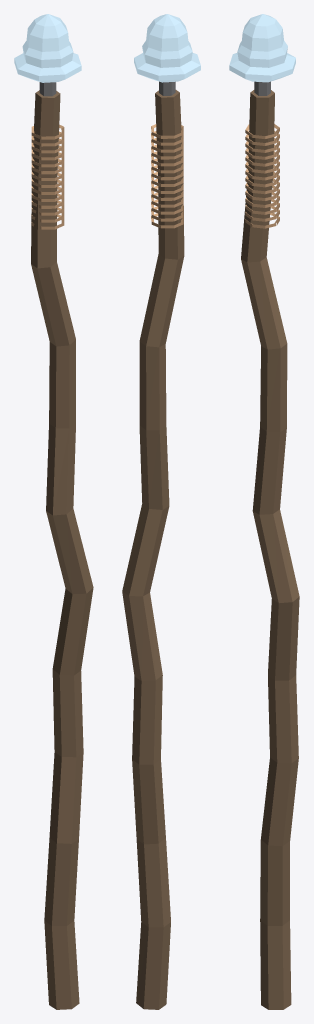
Rendered from lightning_staff.glb.
The picture shows the model from 3 angles, left to right: view 1: azimuth 30°, elevation 25°; view 2: azimuth 210°, elevation 25°; view 3: azimuth 330°, elevation 25°; orthographic projection.
Parts seen in each view (by area): view 1: wood, glow, metal; view 2: wood, glow, metal; view 3: wood, glow, metal.
Boxes of the visible parts, x1=… form: wood: x1=31, y1=90, x2=93, y2=1009; glow: x1=14, y1=14, x2=81, y2=82; metal: x1=31, y1=82, x2=64, y2=229; wood: x1=122, y1=90, x2=184, y2=1009; glow: x1=134, y1=14, x2=200, y2=82; metal: x1=151, y1=81, x2=183, y2=228; wood: x1=241, y1=90, x2=299, y2=1009; glow: x1=229, y1=14, x2=295, y2=82; metal: x1=245, y1=81, x2=279, y2=228.
Size of the model in its own units: 0.1129 by 1.58 by 0.1.
